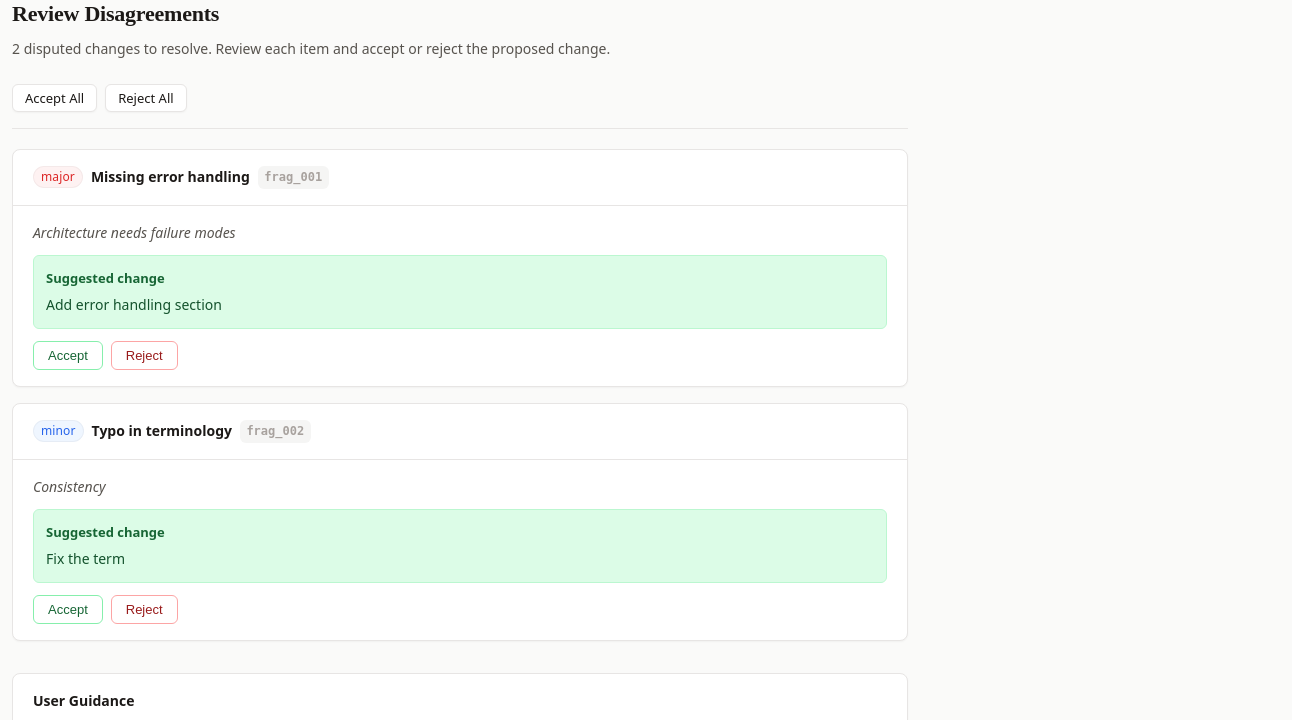
it: ReviewStage › enables submit after all items are decided
Click Accept on both items.
Click the button "Accept" below "Add error handling section" at x=68, y=355, box [33,341,103,370]
(page scrolled)
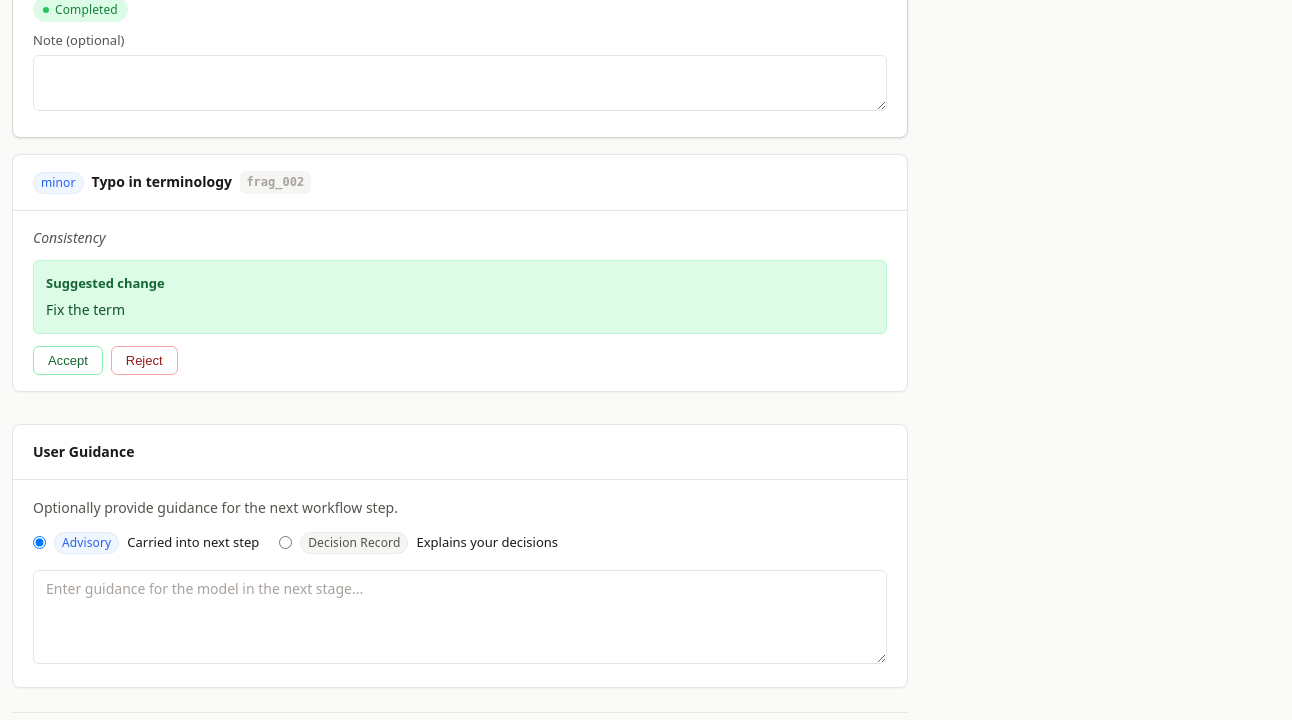
Click the button "Accept" at x=68, y=360, box [33,346,103,375]
(page scrolled)
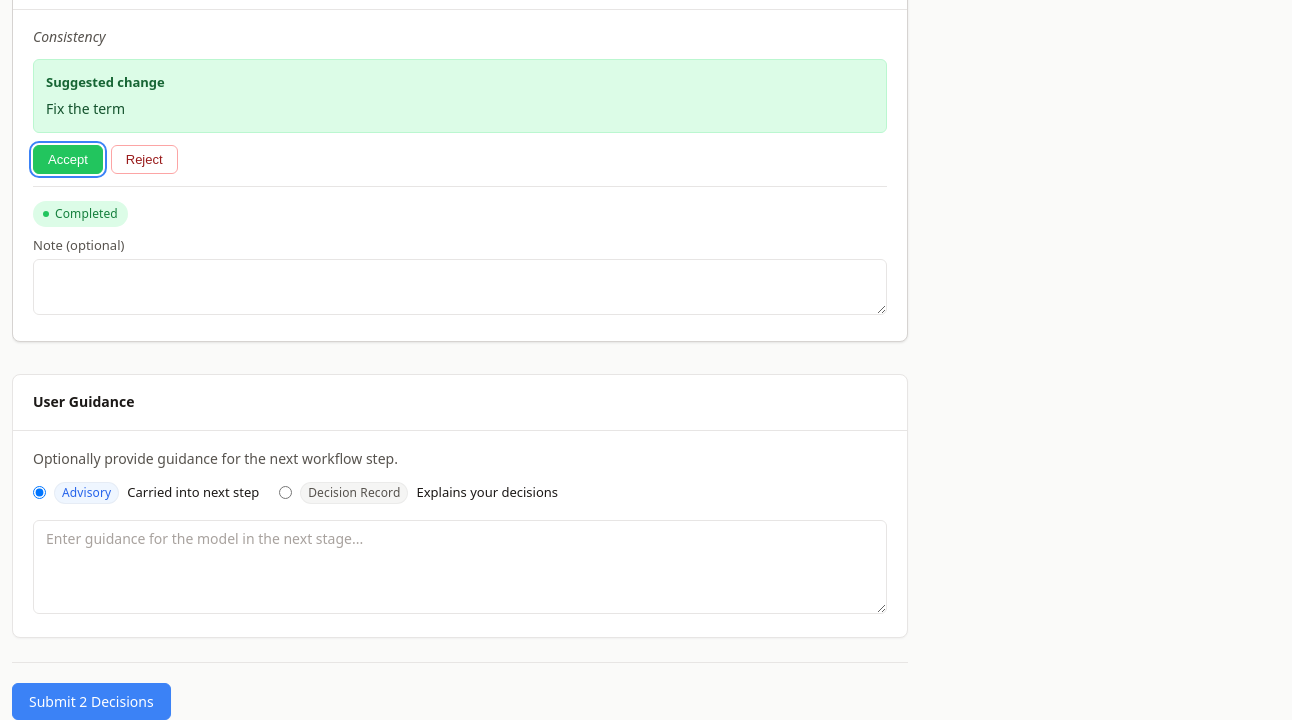
expect the button "Submit 2 Decisions" is enabled: met, box [12,683,171,719]
